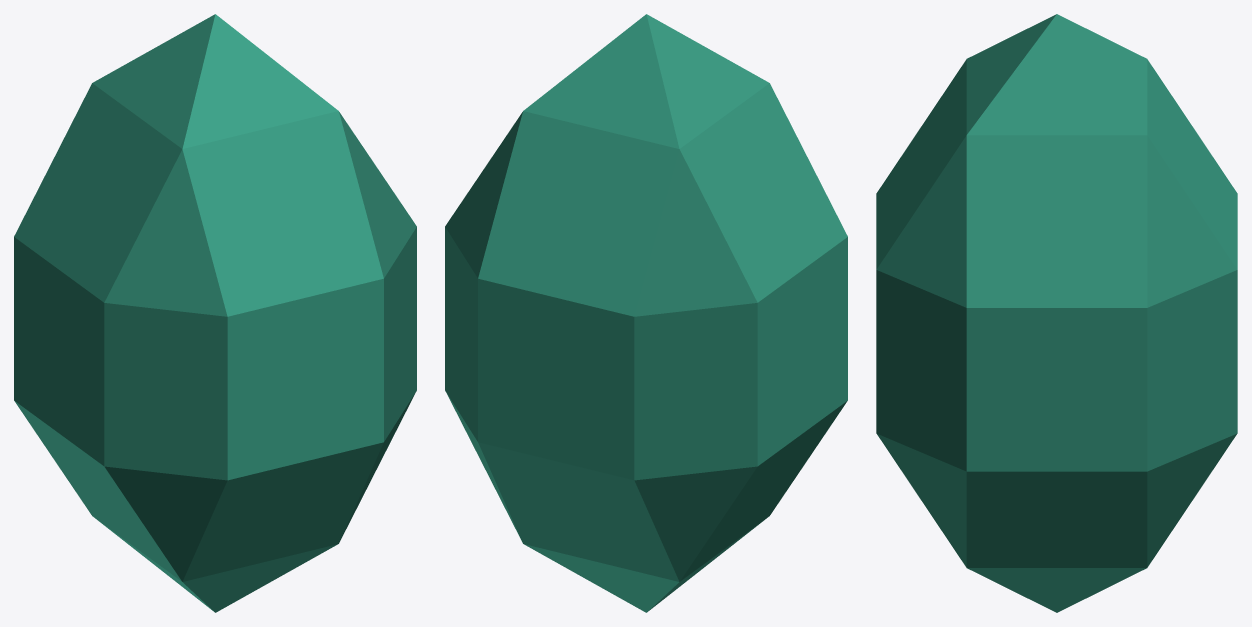
File: Gem1.fbx
3 views of the same model, side by side, from view 1: azimuth 30°, elevation 25°; view 2: azimuth 150°, elevation 25°; view 3: azimuth 270°, elevation 25° (orthographic).
Visible parts, largest first — view 1: Gem1; view 2: Gem1; view 3: Gem1.
Part boxes in pixels (box(x1,y1,x2,y2)): Gem1: box(14, 14, 416, 612); Gem1: box(445, 14, 847, 612); Gem1: box(876, 14, 1237, 612).
Bounding box in the file's own units: 85.52 × 157 × 85.52.
